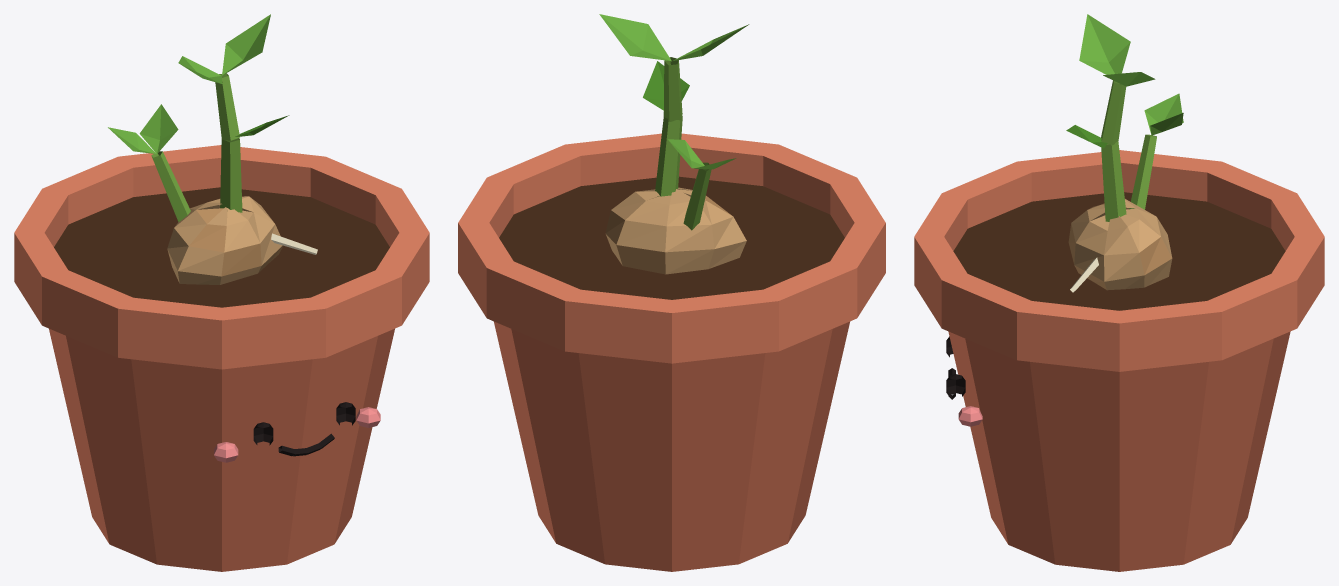
Rendered from potato_stage1.glb.
3 views of the same model, side by side, from view 1: azimuth 30°, elevation 25°; view 2: azimuth 150°, elevation 25°; view 3: azimuth 270°, elevation 25° (orthographic). The views are drawn at different scales.
Visible parts, largest first — view 1: potato_stage1_sprout; view 2: potato_stage1_sprout; view 3: potato_stage1_sprout.
Boxes of the visible parts, x1=… form: potato_stage1_sprout: x1=14, y1=14, x2=429, y2=571; potato_stage1_sprout: x1=458, y1=14, x2=885, y2=571; potato_stage1_sprout: x1=914, y1=14, x2=1324, y2=571.
Size of the model in its own units: 1.92 by 2.45 by 1.92.
